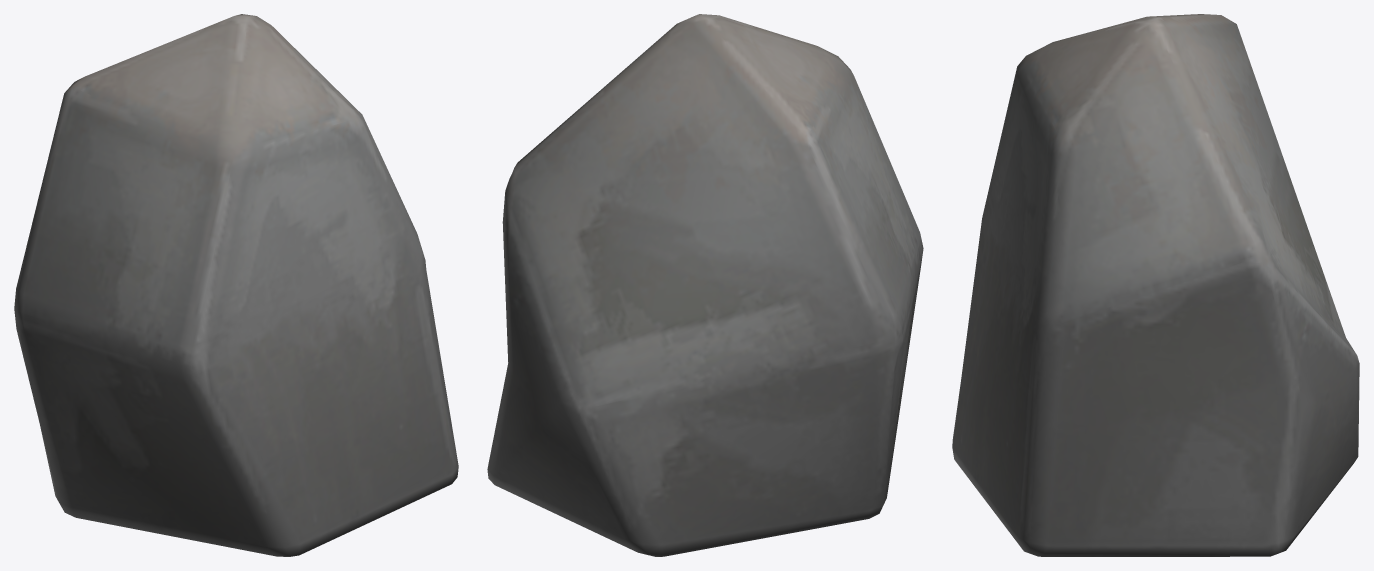
The model's file is NormalRocks1V2.fbx.
3 renders of one model, left to right at view 1: azimuth 30°, elevation 25°; view 2: azimuth 150°, elevation 25°; view 3: azimuth 270°, elevation 25°, orthographic.
Visible parts, largest first — view 1: NormalRocks1V2; view 2: NormalRocks1V2; view 3: NormalRocks1V2.
Boxes of the visible parts, <box> form: NormalRocks1V2: <box>14,14,458,556</box>; NormalRocks1V2: <box>487,14,923,556</box>; NormalRocks1V2: <box>952,14,1359,556</box>.
Bounding box in the file's own units: 1.56 × 1.86 × 1.48.
